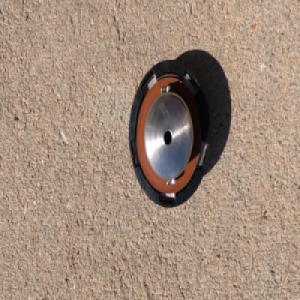FuelCap: (126, 58, 212, 212)
